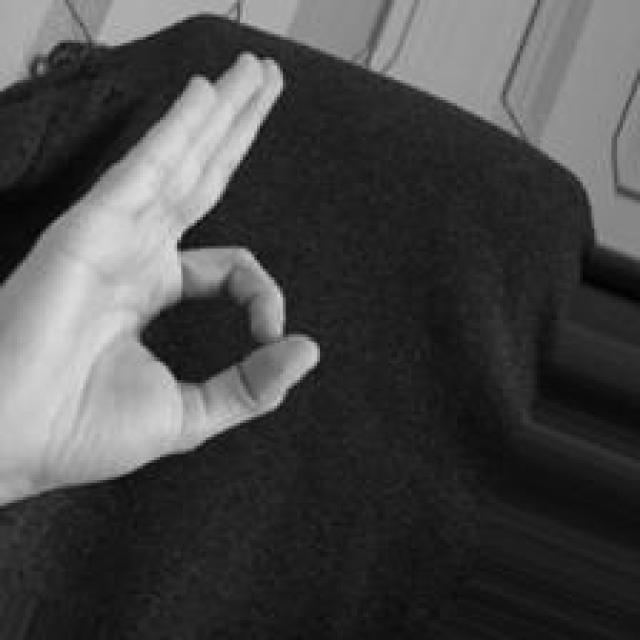O: (3, 51, 324, 524)
